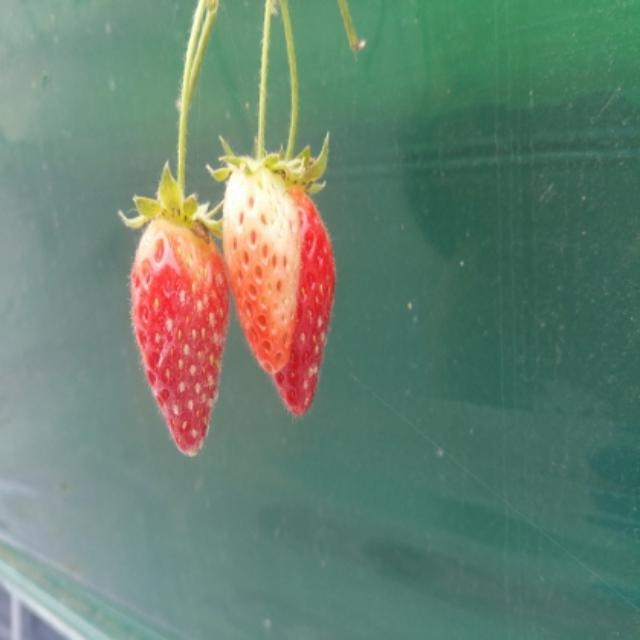Powdery Mildew Fruit: (221, 166, 335, 415), (130, 211, 232, 458)
